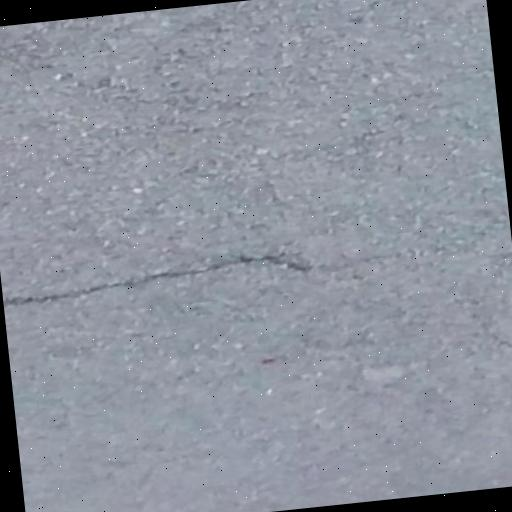spalling: (7, 248, 318, 311)
